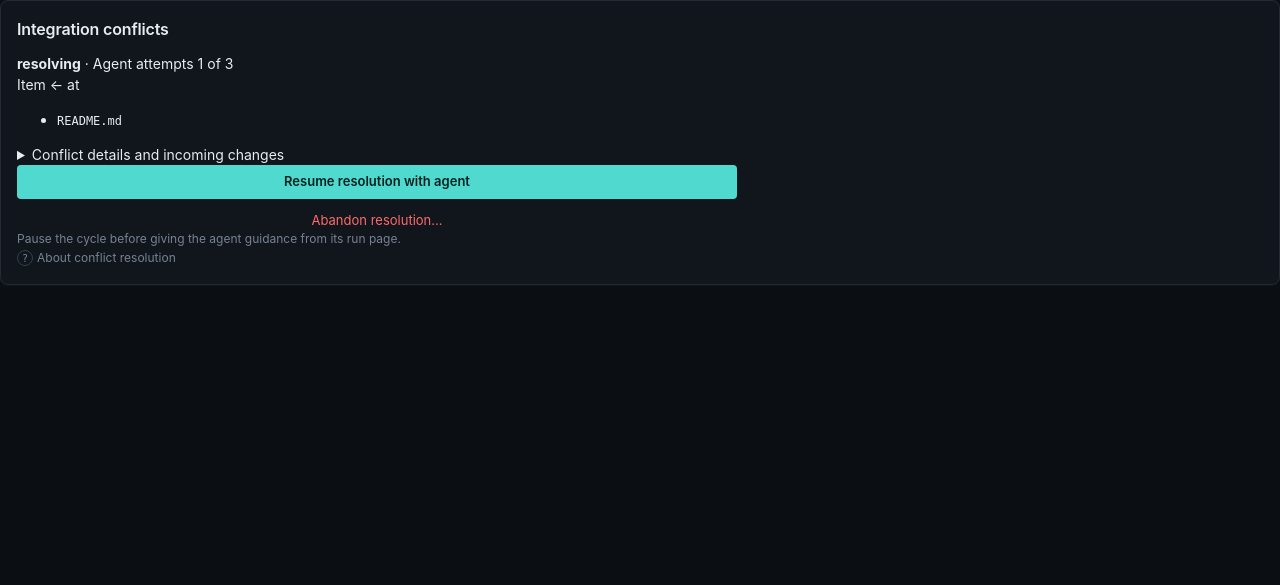
resumes an owned resolution from the agent it recorded, as the daemon ranks it (review LOW-3)
Click the button "Resume resolution with agent" at (377, 182), box [17, 165, 737, 199]
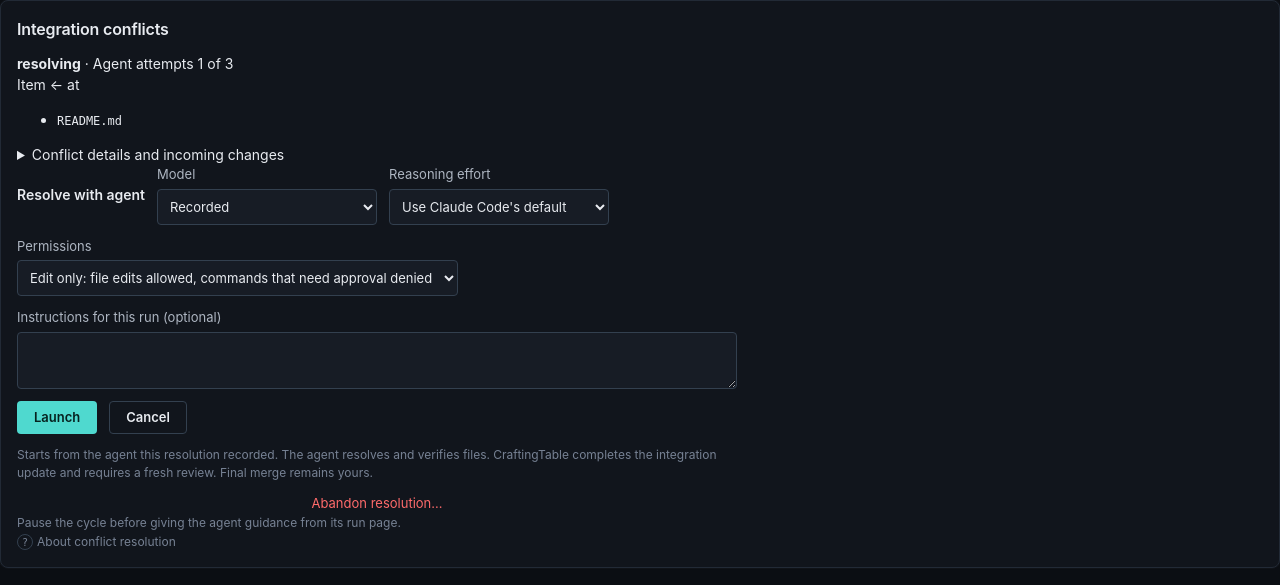
Expected: the dropdown labelled "Model" shows "Recorded", [157, 188, 377, 224]
Expected: the text "Starts from the agent this resolution recorded" is shown, [17, 447, 716, 480]
